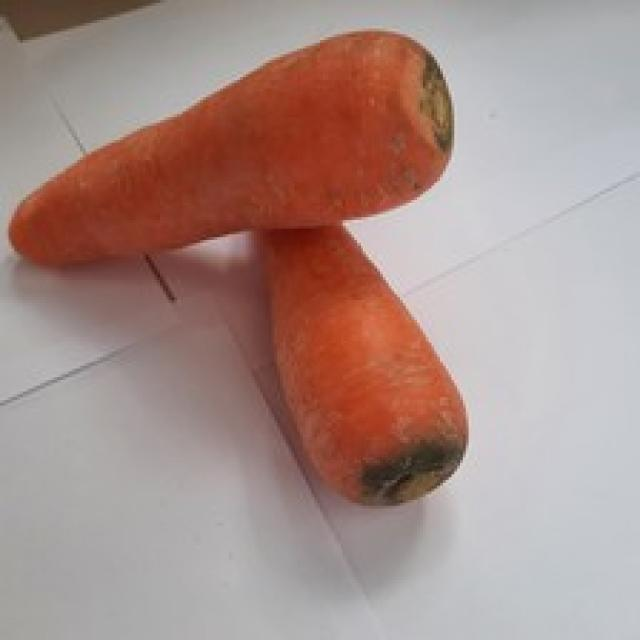Fresh_Carrot: (26, 77, 361, 251)
